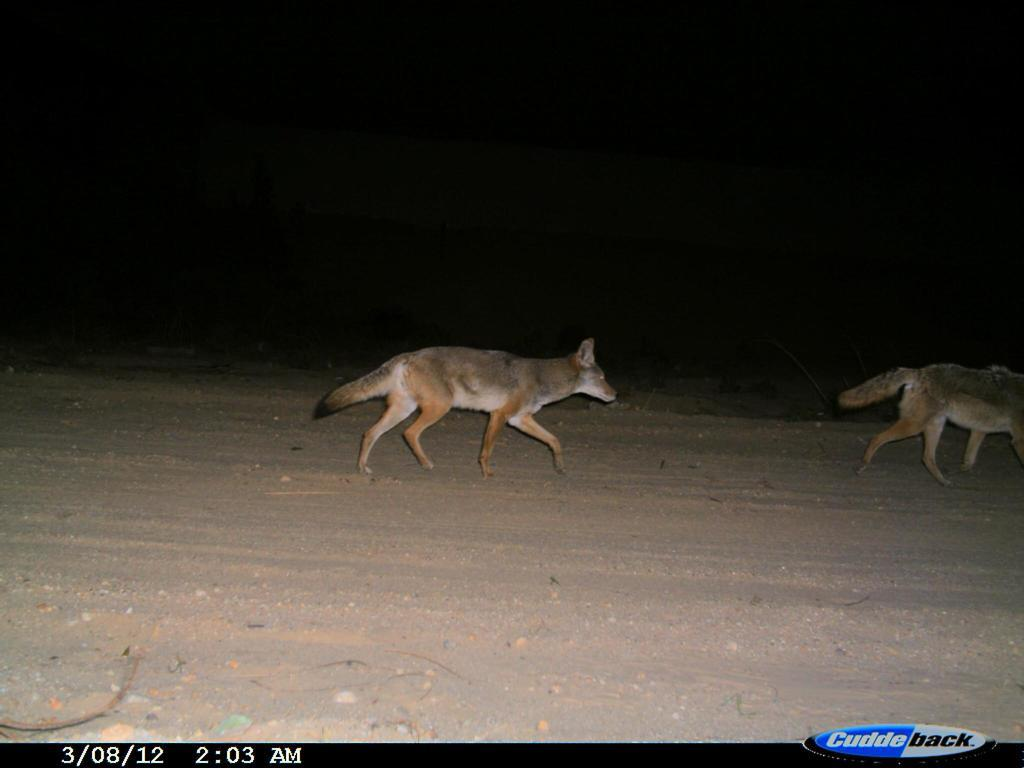coyote: (308, 332, 626, 495), (821, 350, 1023, 486)
